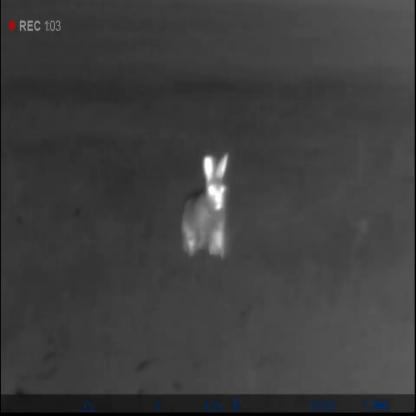rehkitze: (176, 151, 234, 262)
